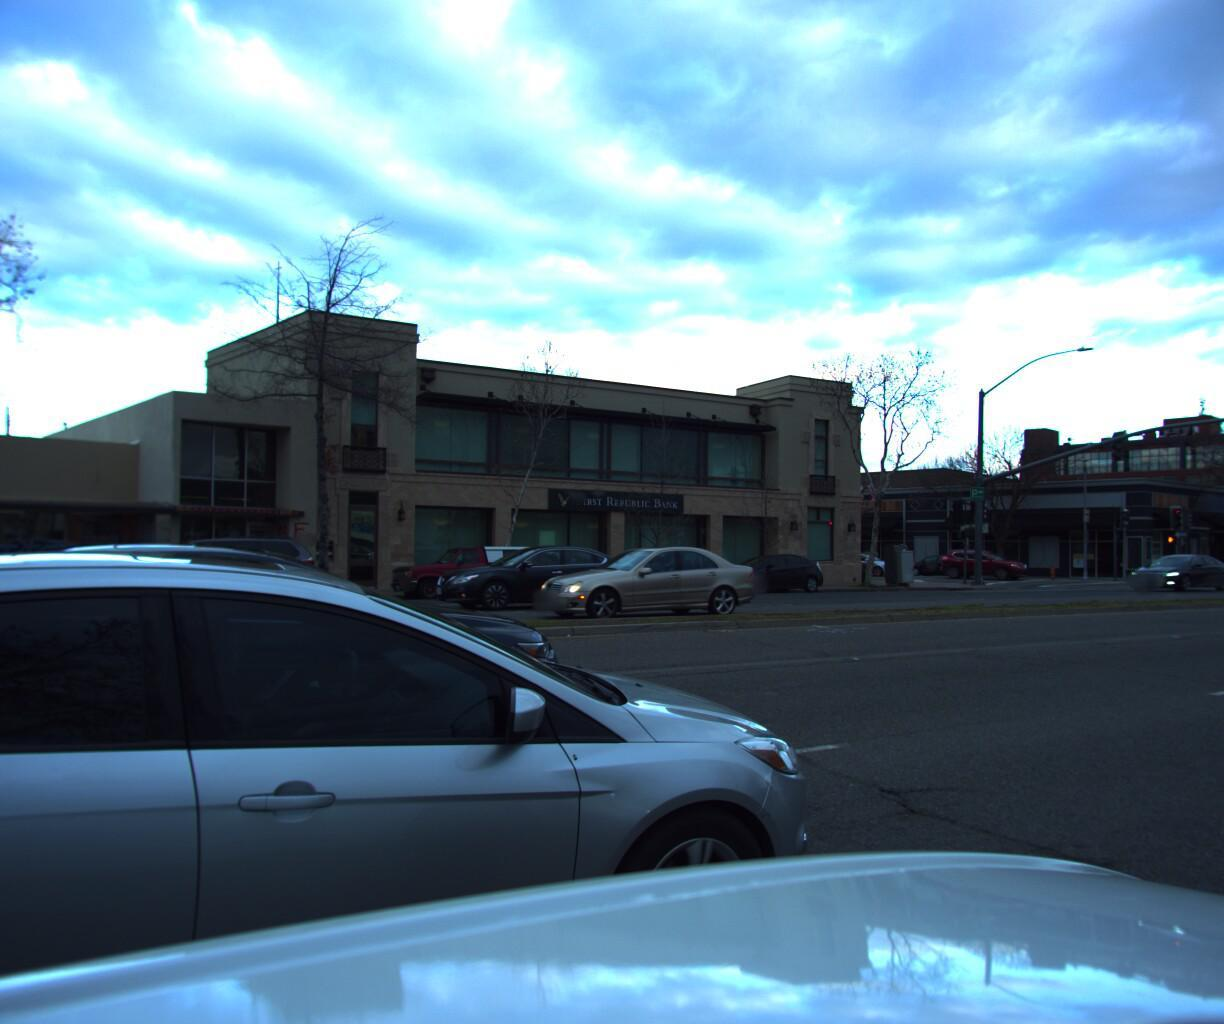car: (0, 544, 897, 1024), (0, 543, 607, 858), (521, 542, 751, 621), (98, 533, 322, 611), (427, 544, 640, 611), (385, 539, 560, 606), (701, 549, 827, 597), (1120, 546, 1224, 586), (932, 540, 1031, 577), (827, 546, 903, 573), (902, 546, 968, 573)
